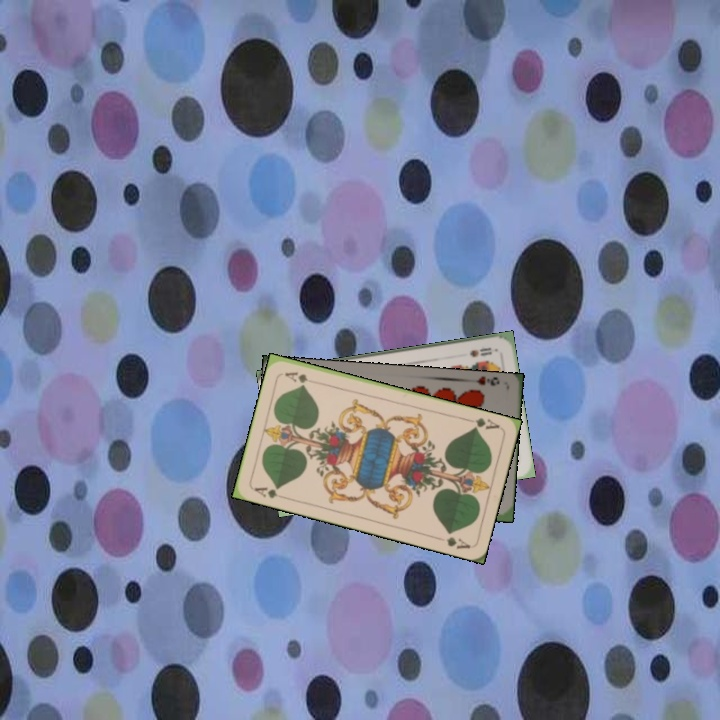GA: (463, 413, 503, 433), (250, 483, 289, 502)
H9: (473, 374, 502, 388)
S8: (465, 343, 494, 360)
